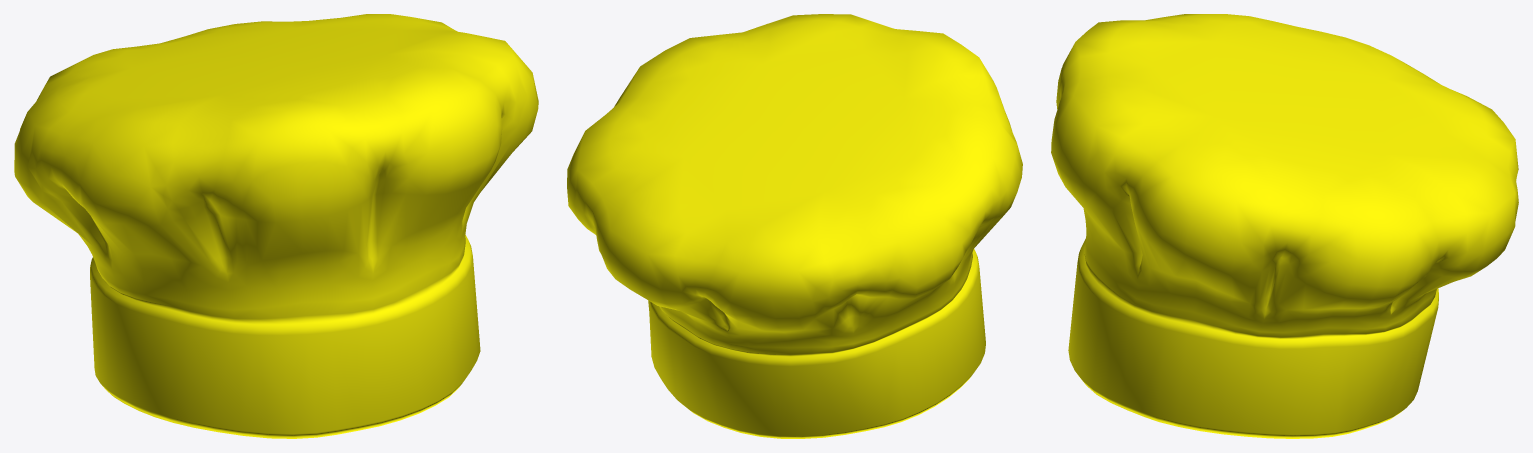
The model's file is Helmet_Chef_New.fbx.
The picture shows the model from 3 angles, left to right: view 1: azimuth 30°, elevation 25°; view 2: azimuth 150°, elevation 25°; view 3: azimuth 270°, elevation 25°; orthographic projection. The views are drawn at different scales.
Visible parts, largest first — view 1: Helmet_Chef_New; view 2: Helmet_Chef_New; view 3: Helmet_Chef_New.
Part boxes in pixels (x1,y1,x2,y2): Helmet_Chef_New: [14, 14, 538, 438]; Helmet_Chef_New: [567, 14, 1022, 438]; Helmet_Chef_New: [1051, 14, 1518, 438].
Size of the model in its own units: 558 by 421 by 548.
